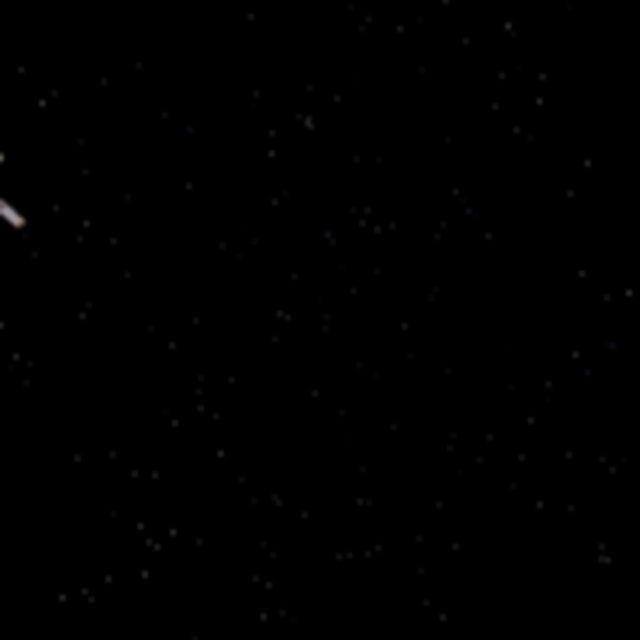satellite: (0, 104, 29, 241)
